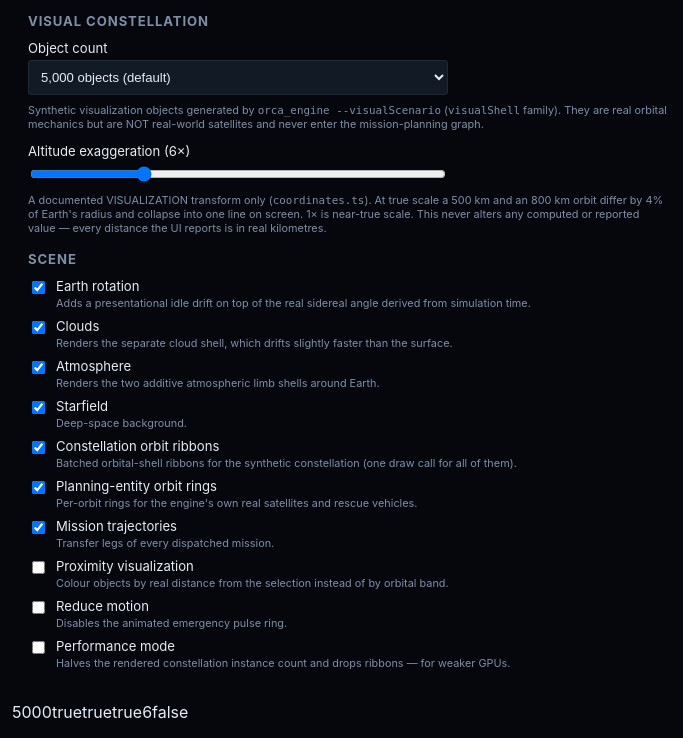
Test: SettingsPage (Phase 12: every control is real) › changing constellation size updates the shared UI state
expect the text with test id "size" reads "5000": met, box [12,702,52,722]
Select "10,000 objects" in the dropdown at (238, 77), box [28,60,448,95]
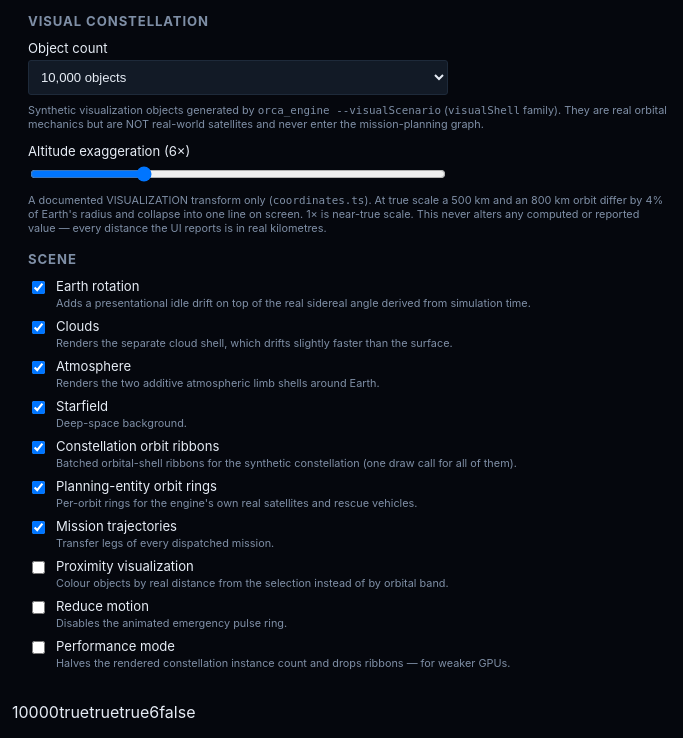
expect the text with test id "size" reads "10000": met, box [12,702,59,722]
